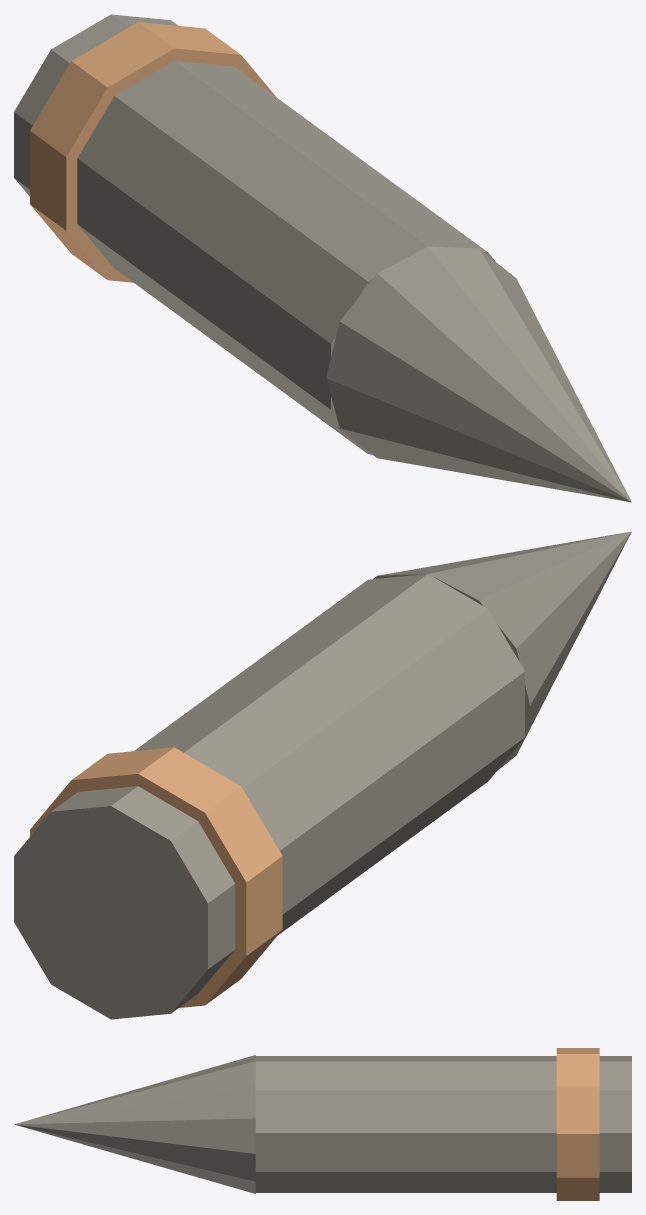
The model's file is shell.glb.
3 renders of one model, top to bottom at view 1: azimuth 30°, elevation 25°; view 2: azimuth 150°, elevation 25°; view 3: azimuth 270°, elevation 25°, orthographic. The views are drawn at different scales.
Parts seen in each view (by area): view 1: Shell; view 2: Shell; view 3: Shell.
Boxes of the visible parts, <box> form: Shell: <box>14,14,631,502</box>; Shell: <box>14,531,631,1019</box>; Shell: <box>14,1048,631,1200</box>.
Size of the model in its own units: 0.2758 by 0.29 by 1.15.
